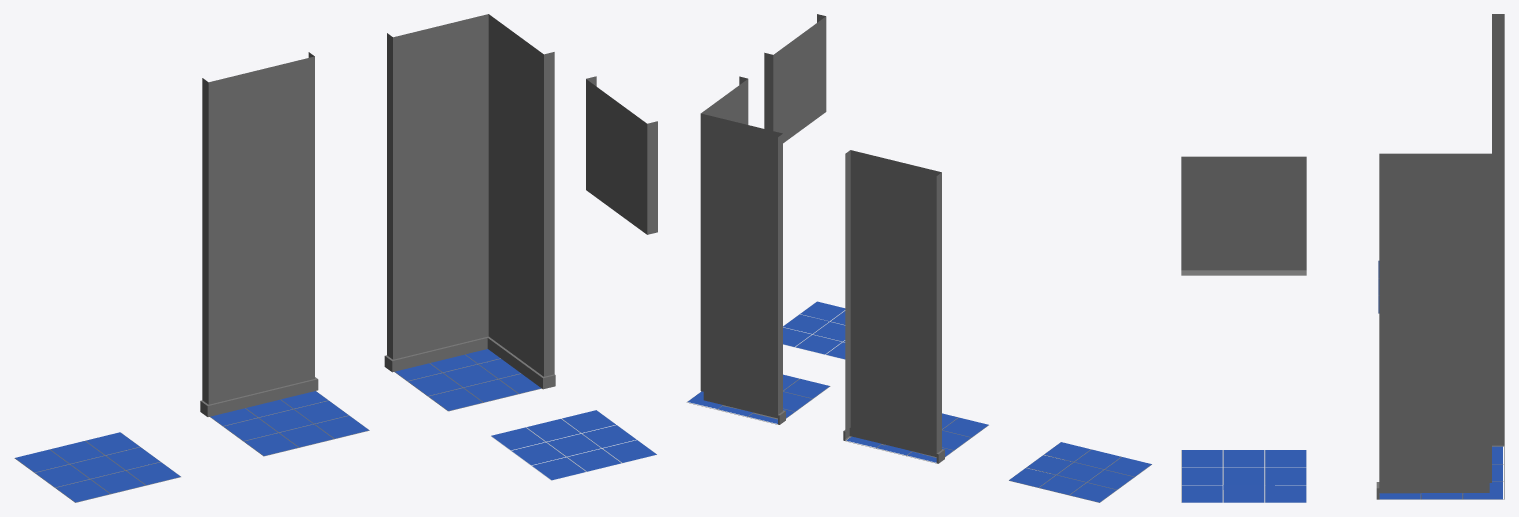
File: sahne 2 duvarlar.fbx
3 renders of one model, left to right at view 1: azimuth 30°, elevation 25°; view 2: azimuth 150°, elevation 25°; view 3: azimuth 270°, elevation 25°, orthographic. The views are drawn at different scales.
Visible parts, largest first — view 1: koseduvar, duzduvar, kapi gecisi, duzzemin; view 2: duzduvar, koseduvar, kapi gecisi, duzzemin; view 3: koseduvar, kapi gecisi, duzduvar, Plane004.
Part boxes in pixels (x1,y1,x2,y2): koseduvar: [384, 14, 555, 410]; duzduvar: [200, 52, 368, 455]; kapi gecisi: [491, 76, 657, 480]; duzzemin: [15, 432, 180, 502]; duzduvar: [843, 150, 988, 463]; koseduvar: [688, 76, 829, 424]; kapi gecisi: [764, 14, 845, 359]; duzzemin: [1009, 442, 1151, 502]; koseduvar: [1376, 106, 1504, 499]; kapi gecisi: [1181, 156, 1306, 502]; duzduvar: [1492, 14, 1504, 105]; Plane004: [1181, 450, 1306, 502].
Bounding box in the file's own units: 457 × 300 × 258.
